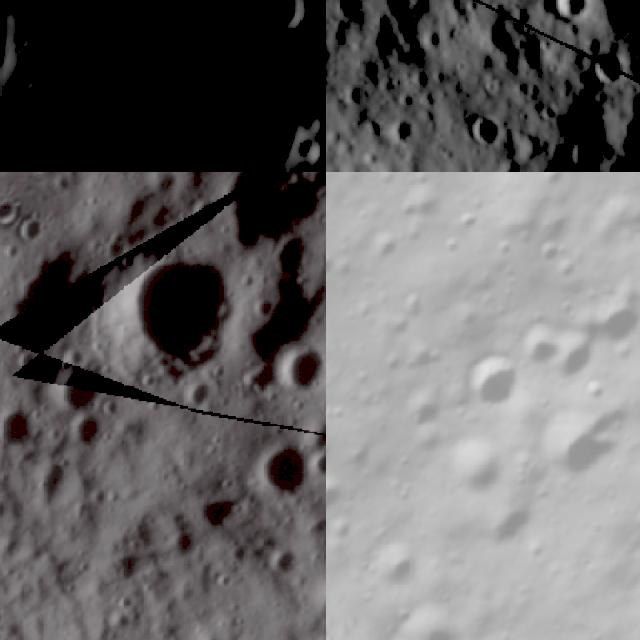crater: (92, 222, 263, 398), (191, 172, 326, 281), (525, 384, 631, 493), (107, 38, 203, 156), (33, 343, 131, 443), (431, 424, 520, 514), (464, 485, 550, 572), (229, 83, 315, 168), (240, 423, 324, 508), (451, 344, 531, 424), (575, 283, 640, 363), (60, 172, 206, 206), (267, 330, 326, 408), (360, 536, 427, 604), (231, 0, 319, 50), (256, 528, 322, 594), (543, 326, 607, 394), (511, 316, 573, 379), (0, 397, 52, 471), (473, 5, 529, 65), (461, 102, 518, 158), (404, 600, 479, 640), (379, 100, 432, 155), (585, 44, 637, 99), (397, 385, 448, 439), (356, 224, 406, 276), (294, 435, 326, 486), (326, 465, 352, 526), (547, 0, 596, 32), (530, 236, 566, 274), (549, 253, 584, 290), (452, 204, 485, 238), (532, 172, 572, 195), (326, 244, 340, 289)
